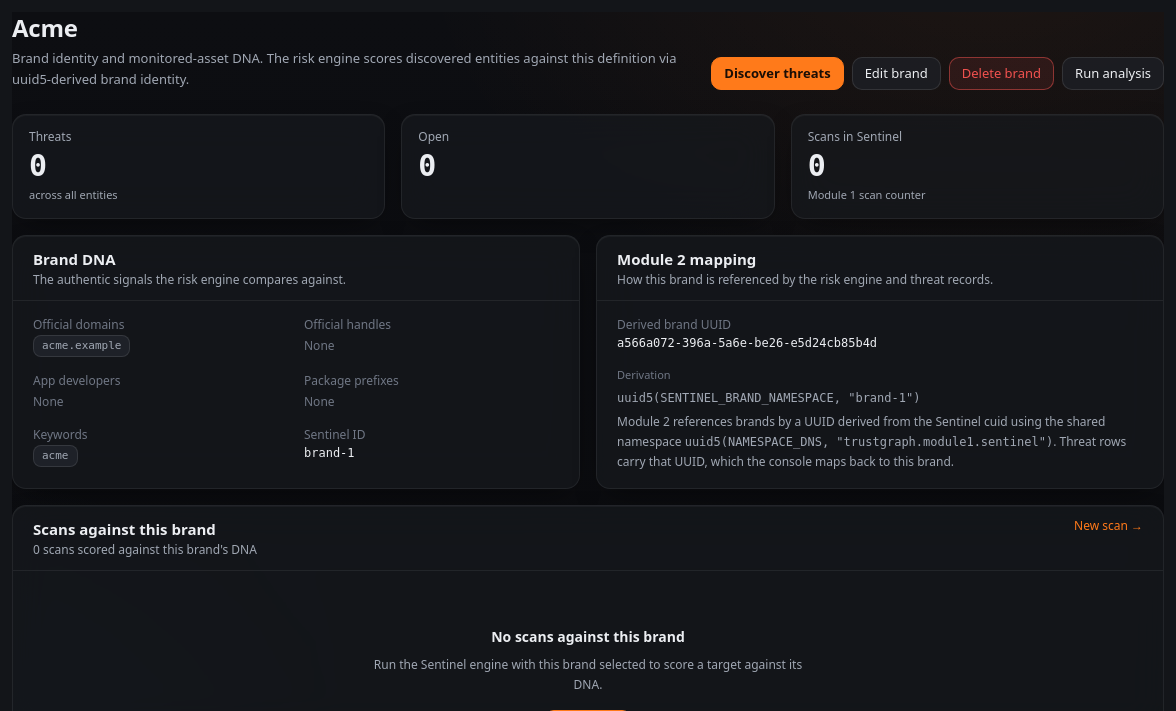
BrandDetail discovery entry point › surfaces a discovery failure inline without navigating
Check: the heading "Acme" is shown, box [12,11,78,44]
Click the button "Discover threats".
click(777, 74)  # box [711,57,844,90]
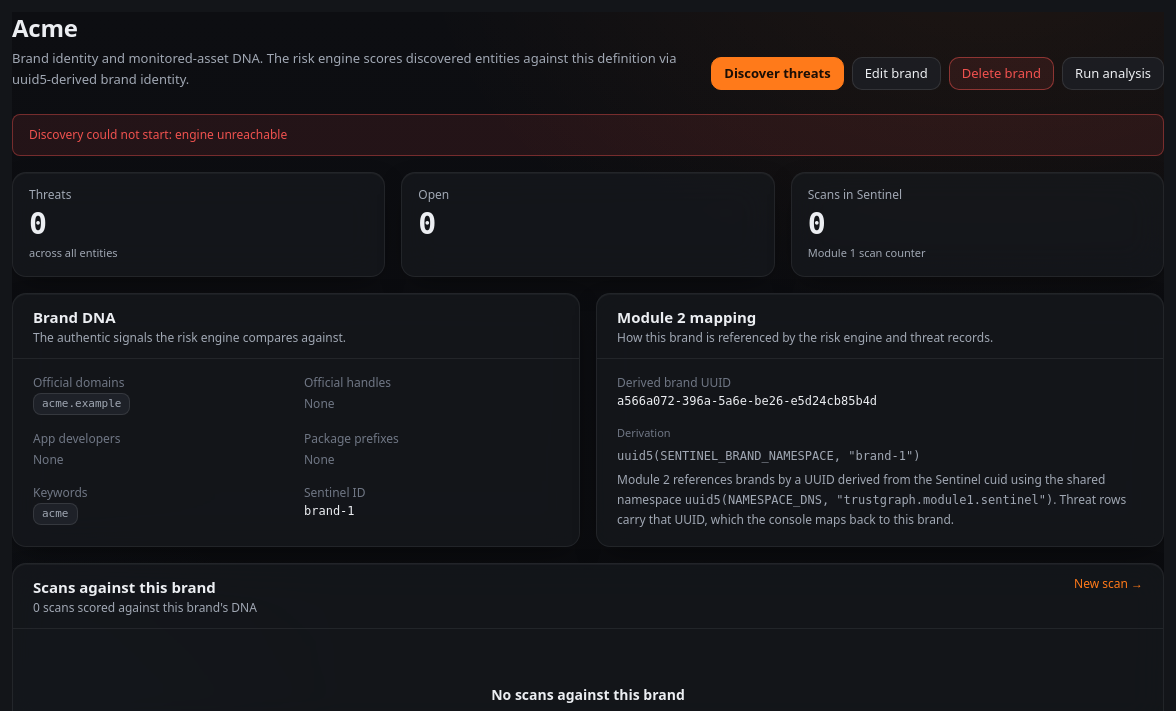
Check: the message shows "engine unreachable", box [175,126,287,143]
